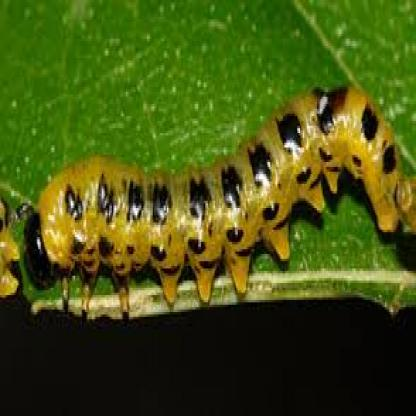sawfly: (20, 78, 416, 320)
